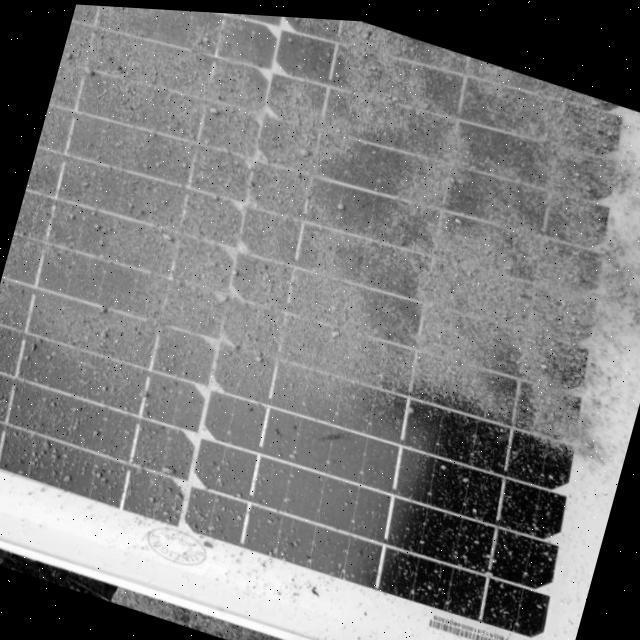Surface Contaminant: (0, 4, 618, 609)
